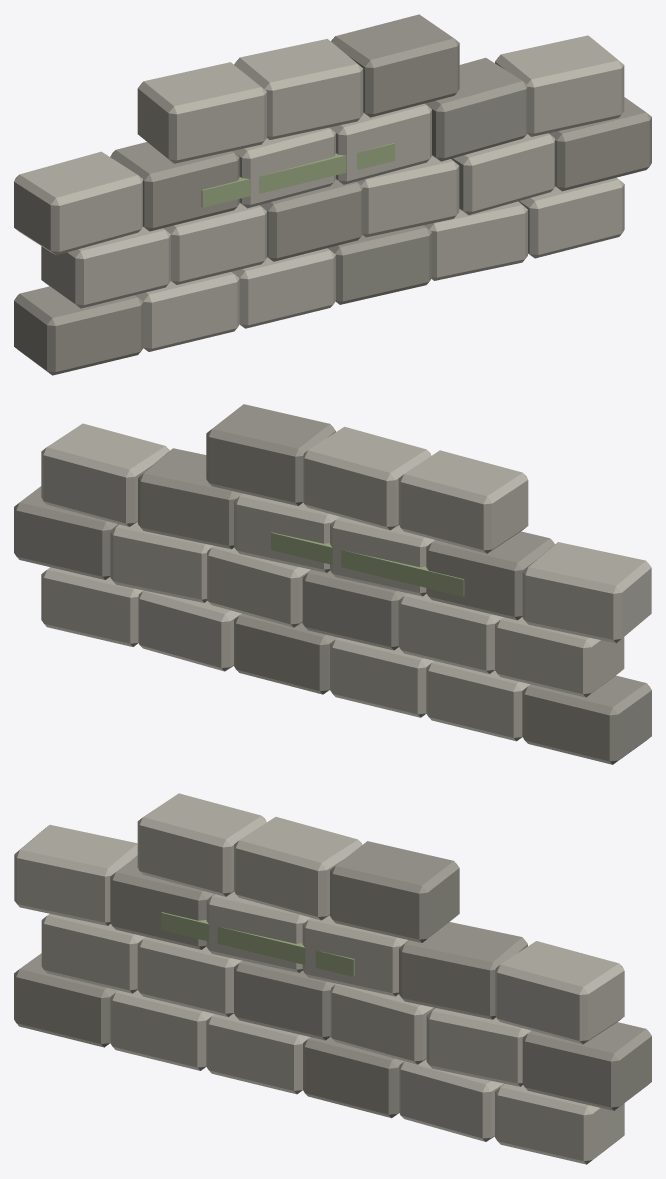
The model's file is ruins_wall.glb.
The picture shows the model from 3 angles, top to bottom: view 1: azimuth 30°, elevation 25°; view 2: azimuth 150°, elevation 25°; view 3: azimuth 330°, elevation 25°; orthographic projection.
Parts seen in each view (by area): view 1: RuinsWall; view 2: RuinsWall; view 3: RuinsWall.
Part boxes in pixels (x1,y1,x2,y2): RuinsWall: (14, 14, 651, 375); RuinsWall: (14, 404, 651, 764); RuinsWall: (14, 793, 651, 1164).
Size of what is drawn, in the model's own units: 4.42 by 1.66 by 0.5406.
